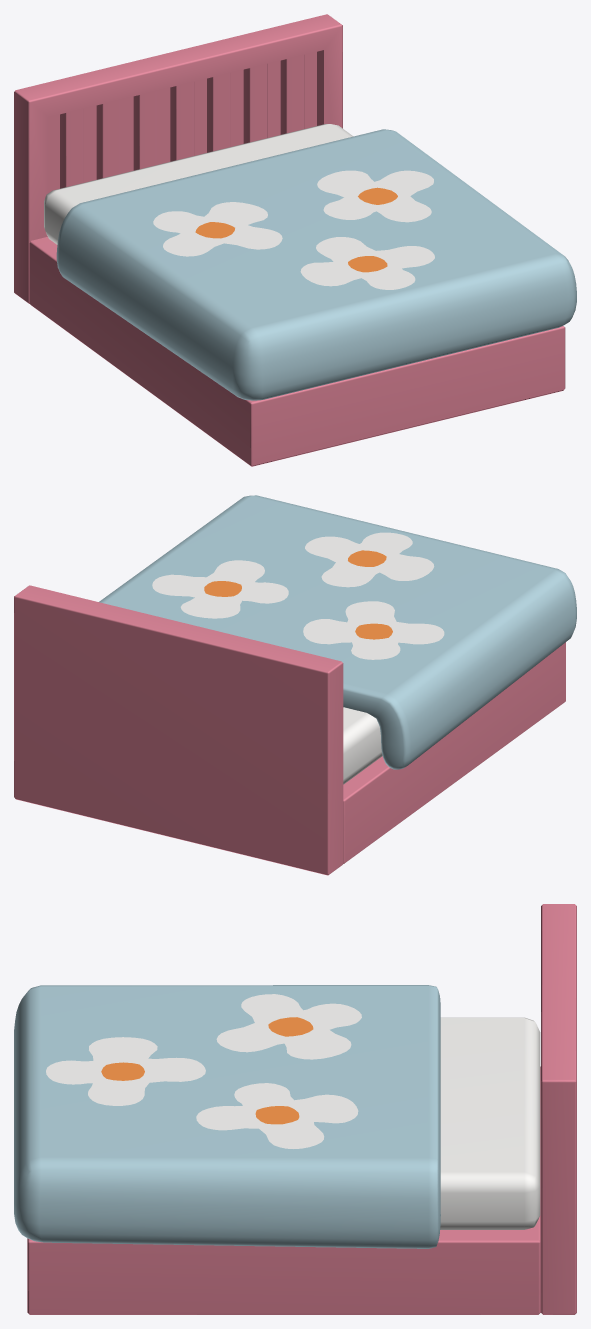
The model's file is Bed_2.glb.
3 renders of one model, top to bottom at view 1: azimuth 30°, elevation 25°; view 2: azimuth 150°, elevation 25°; view 3: azimuth 270°, elevation 25°, orthographic. The views are drawn at different scales.
Visible parts, largest first — view 1: Bed_6; view 2: Bed_6; view 3: Bed_6.
Boxes of the visible parts, x1,y1,x2,y2 form: Bed_6: (14,14,576,466); Bed_6: (14,495,576,875); Bed_6: (14,904,576,1314).
Size of the model in its own units: 2.01 by 1.11 by 2.41.
Materials: 1 (1 with a texture image).
